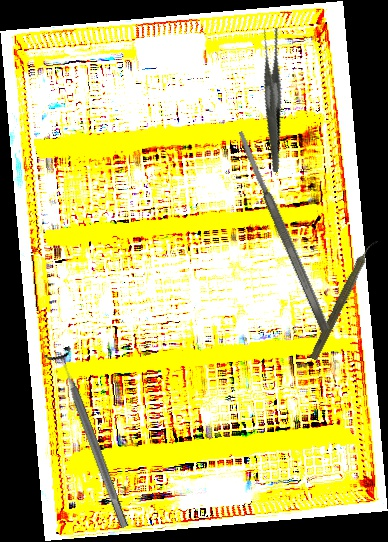Dressing Forceps: (227, 25, 316, 173)
Fixation Ring: (42, 345, 139, 533)
Handpiece: (307, 235, 381, 364)
Spatula Surgical: (235, 129, 331, 333)
